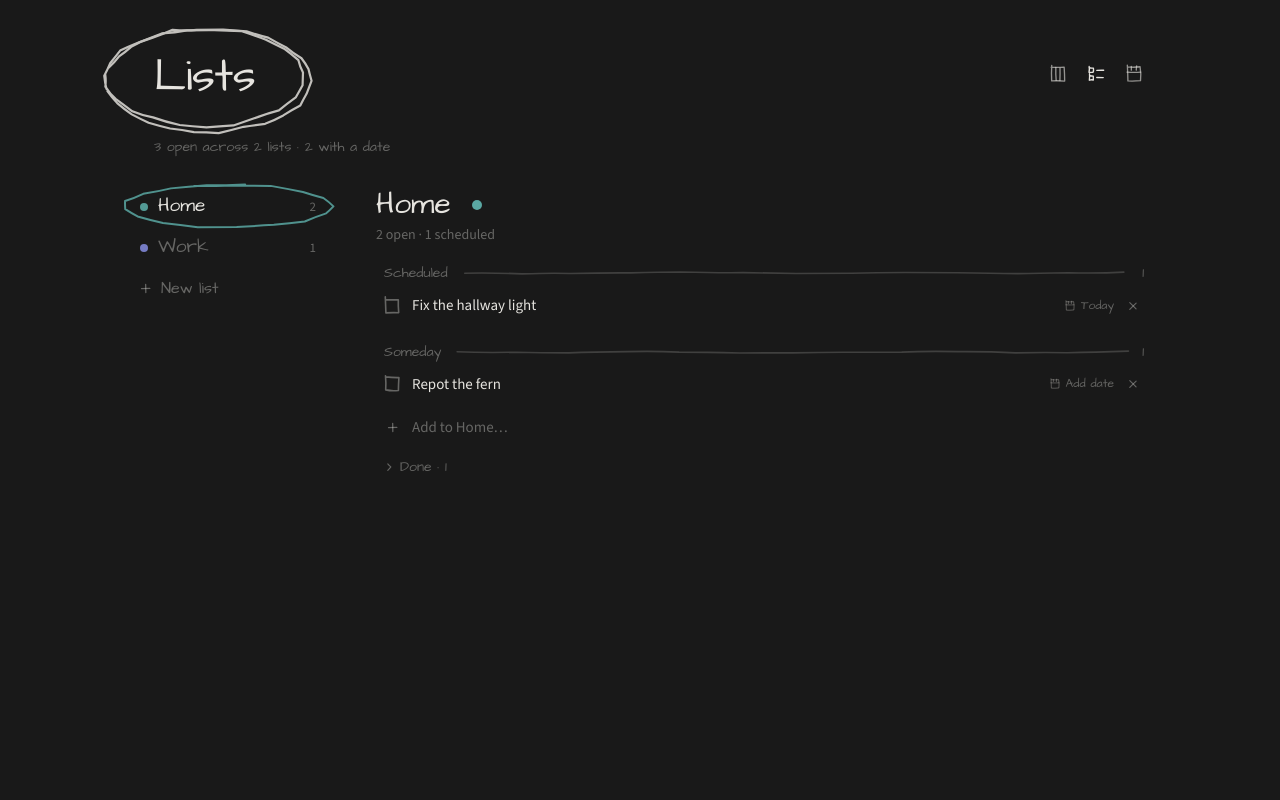
it: lists page › adds a task and dates it, moving it from Someday to Scheduled
Type keys "n"
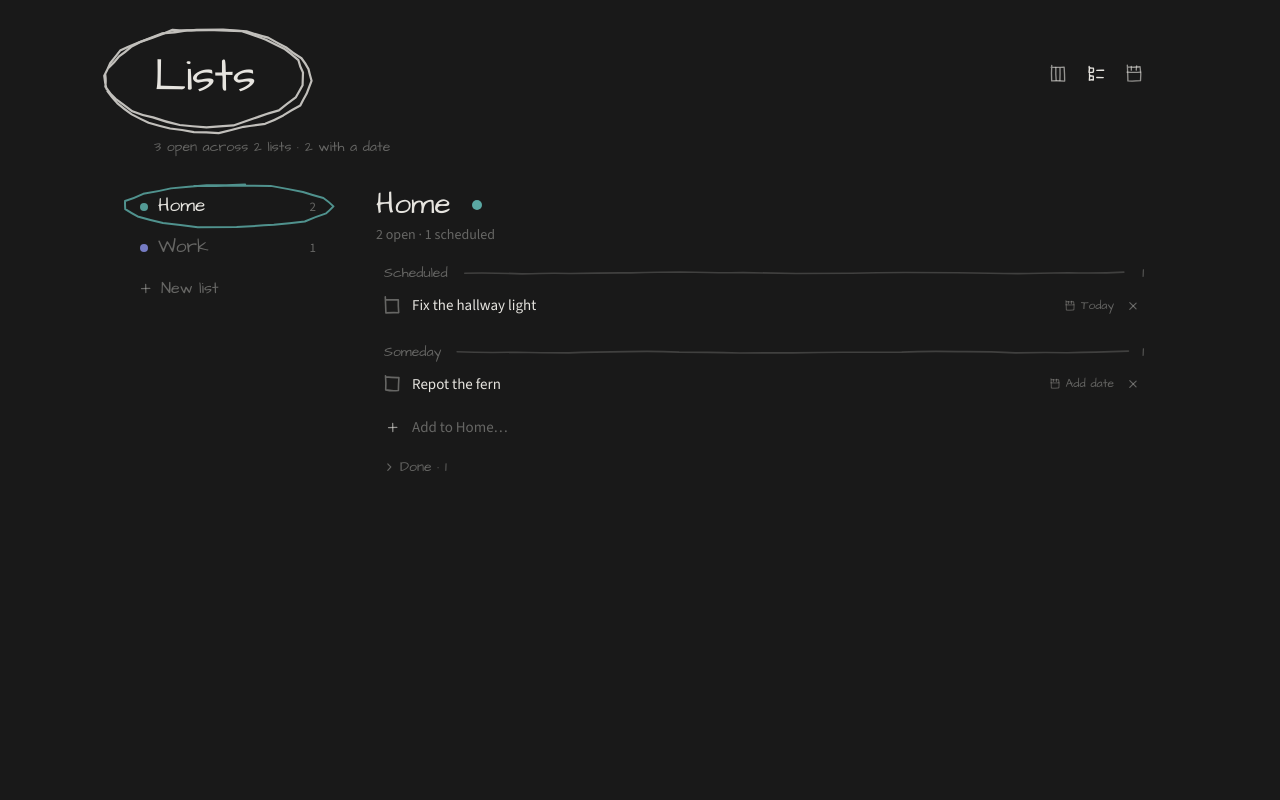
Type keys "Buy stamps{Enter}"
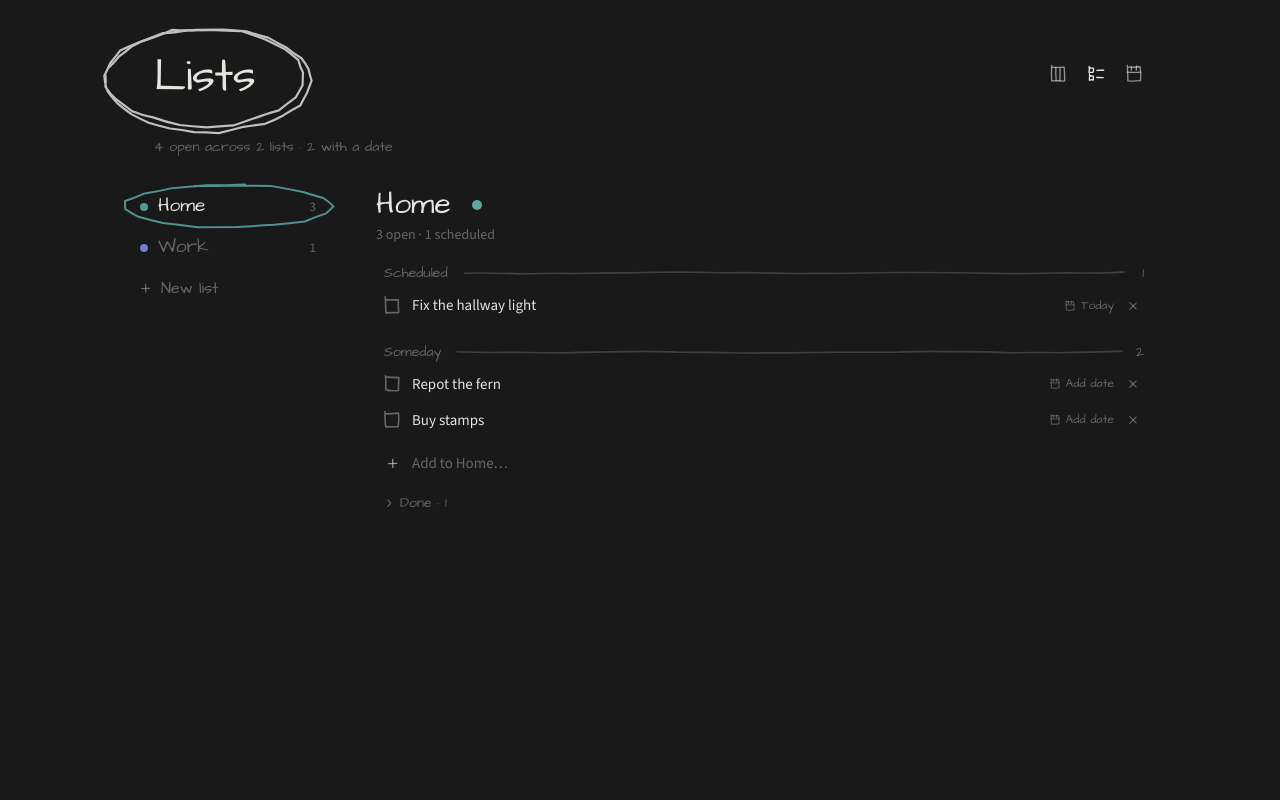
Expected: the field named "Add a task to Home" is empty, [410, 452, 1144, 475]
Expected: the button "Buy stamps" is shown, [410, 409, 486, 432]
Click the button with aria-label "Add a date to Buy stamps" at (1081, 420), box [1043, 412, 1120, 430]
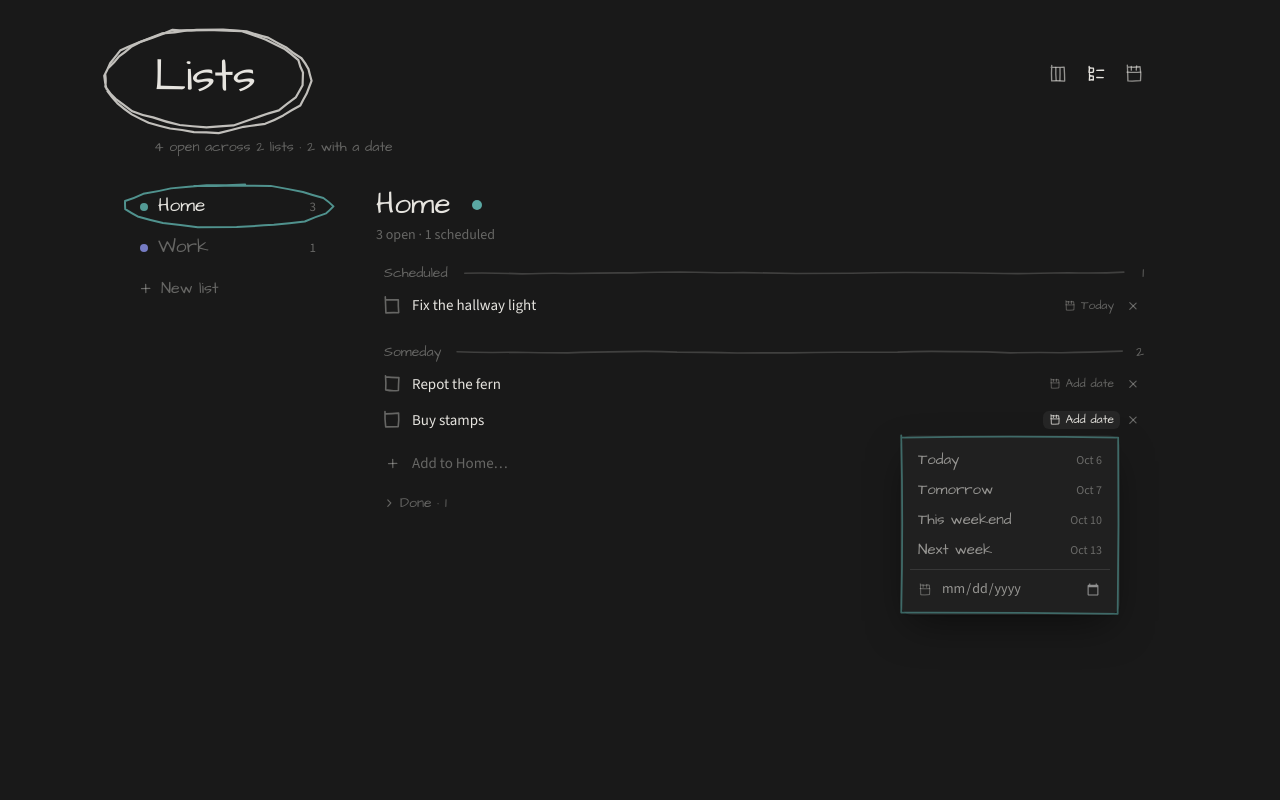
Click the button "Tomorrow Oct 7" at (1010, 490), box [910, 476, 1110, 506]
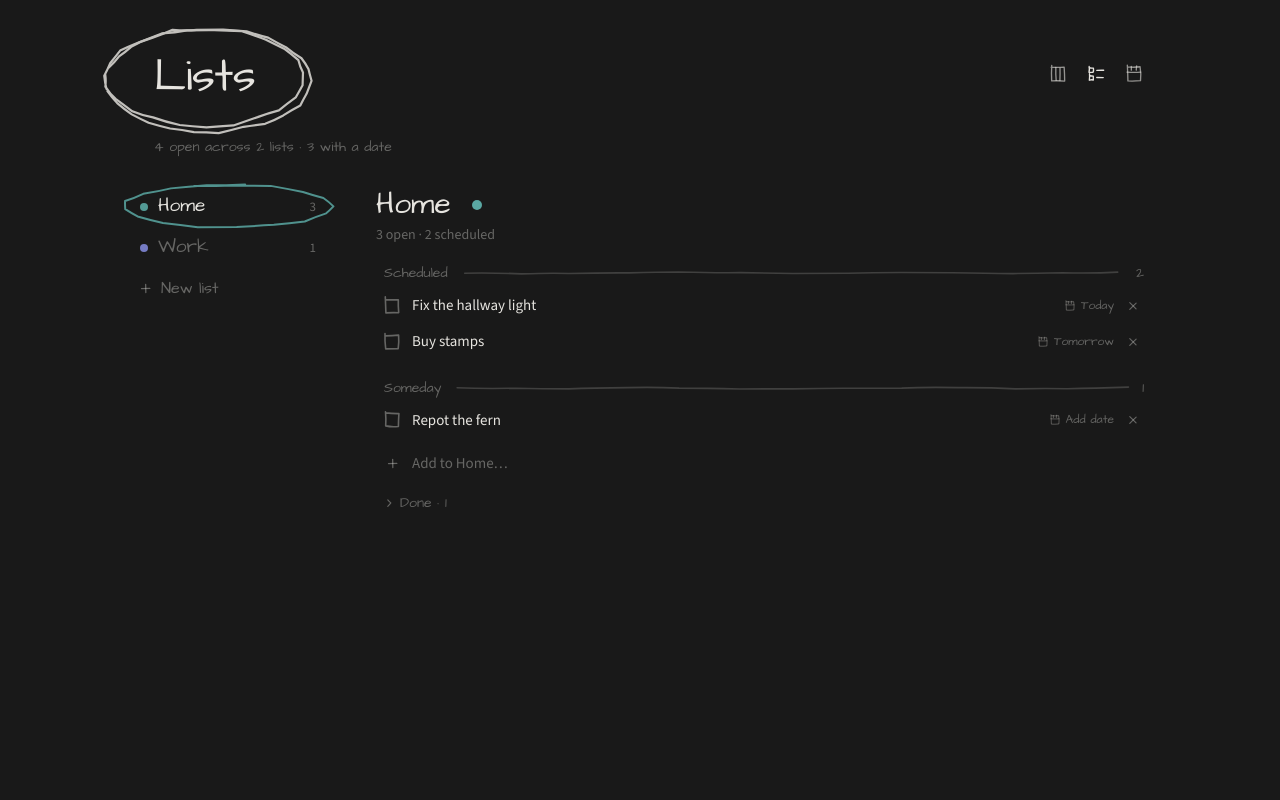
Expected: the dialog is gone
Expected: the button with aria-label "Due Tomorrow. Change the date of Buy stamps" is shown, [1031, 333, 1120, 351]
Expected: the text "3 open · 2 scheduled" is shown, [376, 225, 495, 244]
